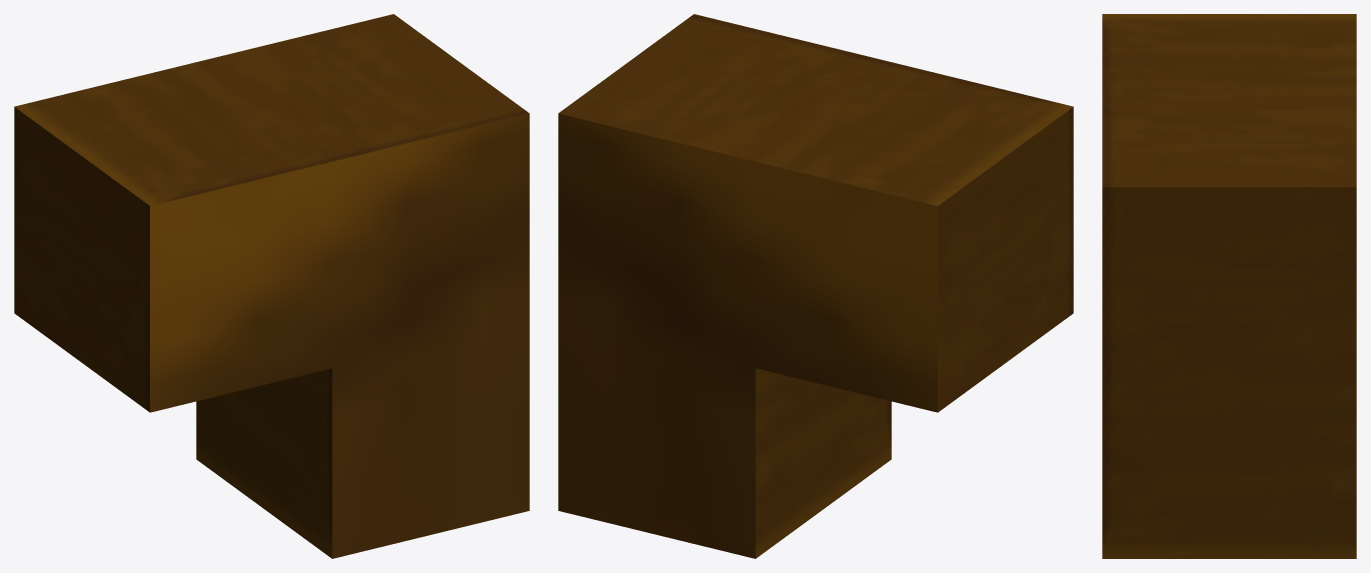
The model's file is pz_counter_modern_wall_corner.obj.
The picture shows the model from 3 angles, left to right: view 1: azimuth 30°, elevation 25°; view 2: azimuth 150°, elevation 25°; view 3: azimuth 270°, elevation 25°; orthographic projection. The views are drawn at different scales.
Size of the model in its own units: 1 by 1 by 0.62.
Materials: 1 (1 with a texture image).
